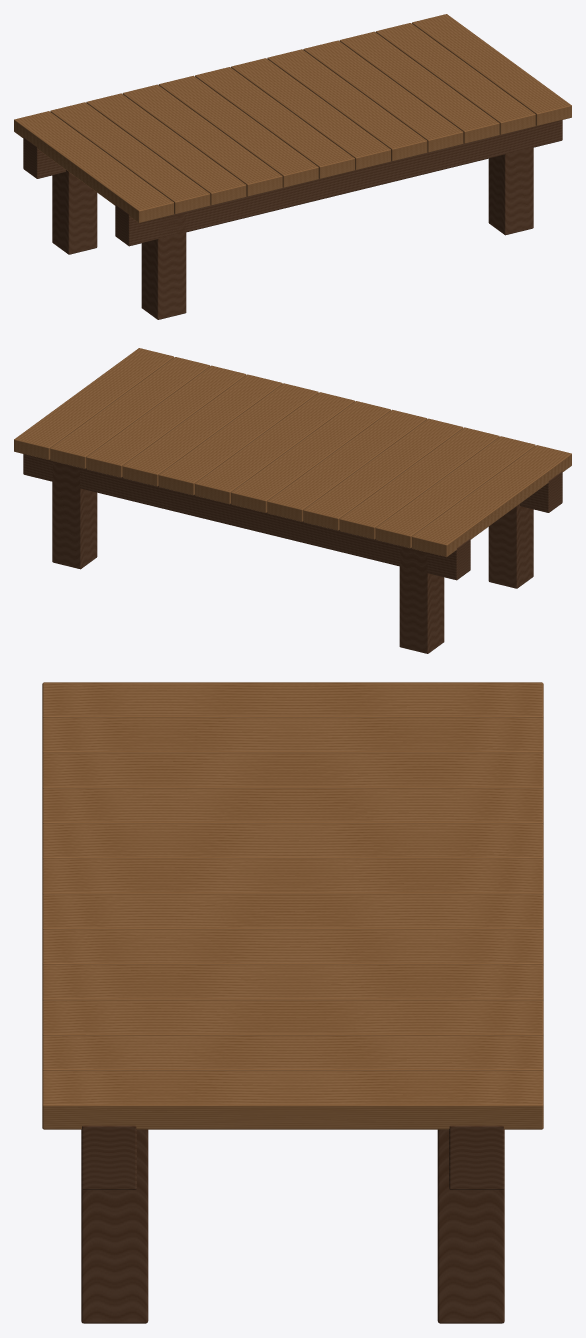
Rendered from engawa.glb.
3 renders of one model, top to bottom at view 1: azimuth 30°, elevation 25°; view 2: azimuth 150°, elevation 25°; view 3: azimuth 270°, elevation 25°, orthographic. The views are drawn at different scales.
Visible parts, largest first — view 1: engawa; view 2: engawa; view 3: engawa.
Boxes of the visible parts, x1,y1,x2,y2 form: engawa: (14,14,571,319); engawa: (14,348,571,653); engawa: (42,682,543,1323).
Size of the model in its own units: 1.8 by 0.49 by 0.9.
Materials: 2 (2 with a texture image).
